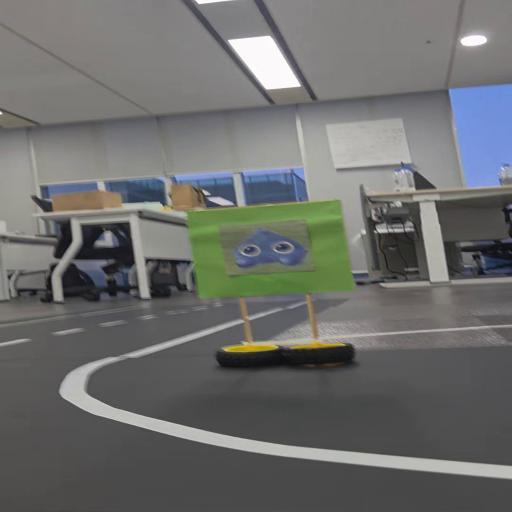Sign_B: (183, 197, 380, 373)
